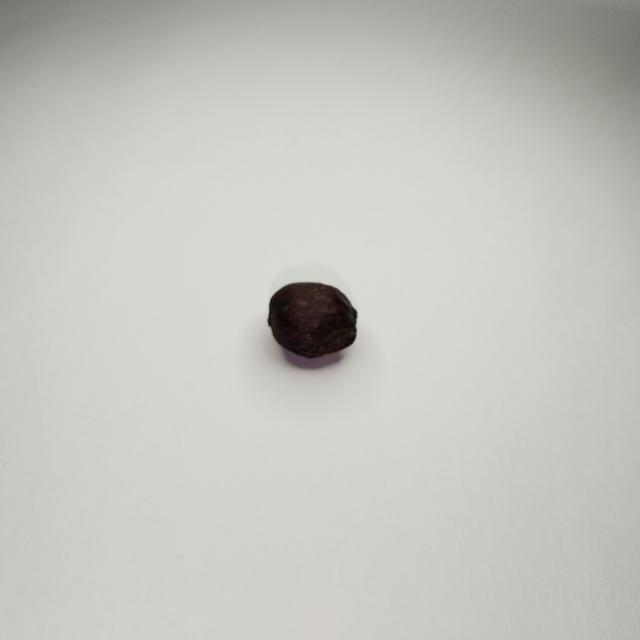Danado: (268, 282, 357, 363)
